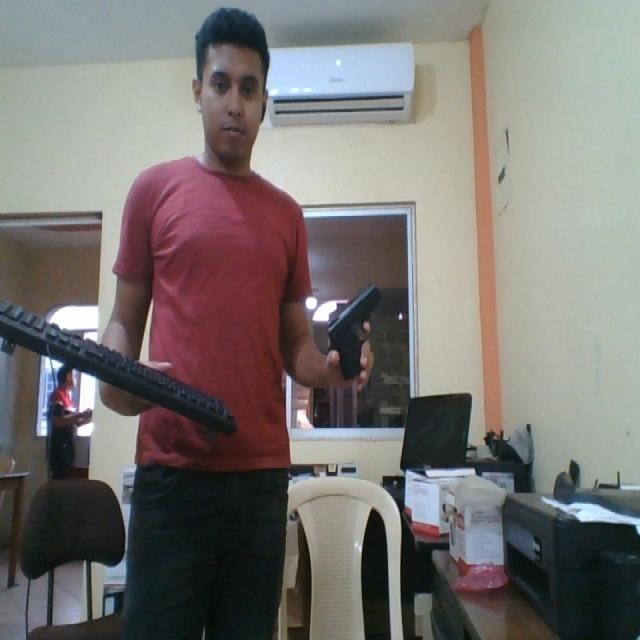weapon: (324, 283, 386, 388)
